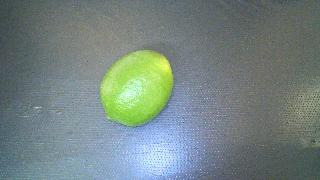EXPORTACION: (100, 50, 173, 126)
